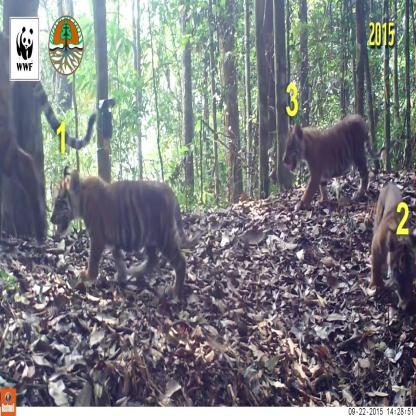Tiger: (41, 156, 196, 302), (278, 112, 379, 202), (368, 177, 414, 316)
